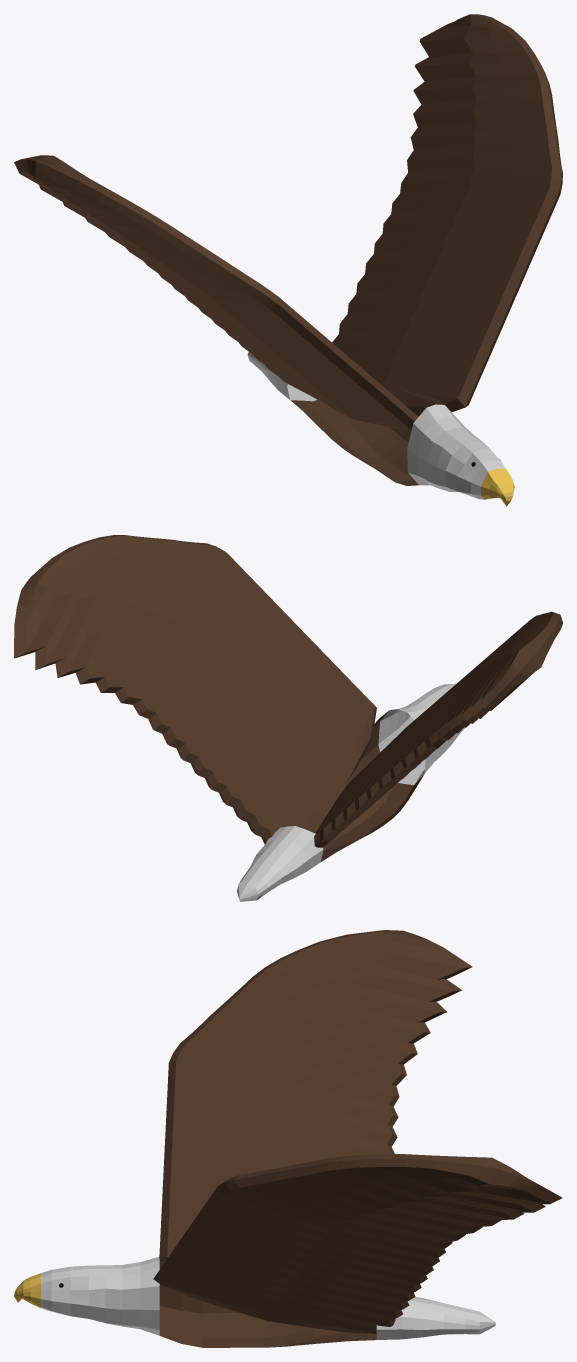
Rendered from eagle.glb.
The picture shows the model from 3 angles, top to bottom: view 1: azimuth 30°, elevation 25°; view 2: azimuth 150°, elevation 25°; view 3: azimuth 270°, elevation 25°; orthographic projection. The views are drawn at different scales.
Visible parts, largest first — view 1: Plane.002, Plane.001, Plane; view 2: Plane.002, Plane.001, Plane; view 3: Plane.001, Plane.002, Plane.
Boxes of the visible parts, bbox=[...] form: Plane.002: bbox=[332, 14, 562, 415]; Plane.001: bbox=[14, 155, 418, 429]; Plane: bbox=[247, 352, 514, 506]; Plane.002: bbox=[14, 535, 376, 844]; Plane.001: bbox=[314, 611, 562, 847]; Plane: bbox=[236, 683, 464, 901]; Plane.001: bbox=[159, 930, 472, 1269]; Plane.002: bbox=[153, 1154, 562, 1333]; Plane: bbox=[14, 1256, 495, 1347].
Bounding box in the file's own units: 0.2842 × 0.168 × 0.2819.
